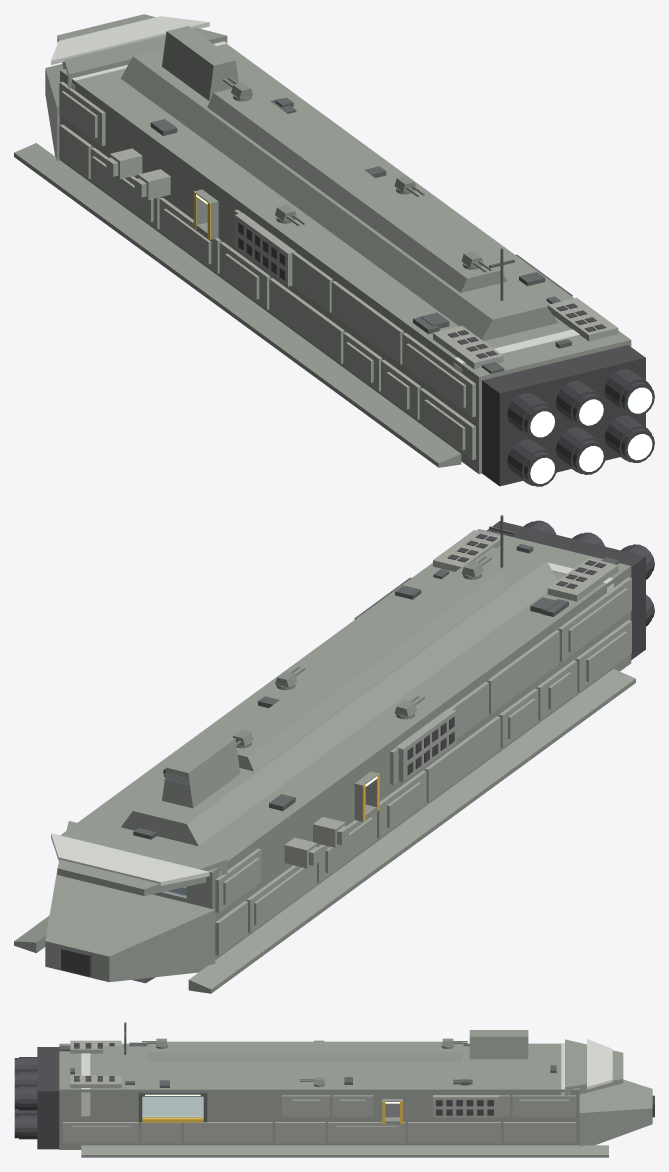
File: ship_SMALL_FRIGATE_v1.glb
3 renders of one model, top to bottom at view 1: azimuth 30°, elevation 25°; view 2: azimuth 150°, elevation 25°; view 3: azimuth 270°, elevation 25°, orthographic. The views are drawn at different scales.
Visible parts, largest first — view 1: SMALL_FRIGATE_Hull-col, SMALL_FRIGATE_Armor, SMALL_FRIGATE_Engines, SMALL_FRIGATE_Accent, SMALL_FRIGATE_EngineGlow, SMALL_FRIGATE_Details, SMALL_FRIGATE_EscapePod_2, SMALL_FRIGATE_EscapePod_1; view 2: SMALL_FRIGATE_Hull-col, SMALL_FRIGATE_Armor, SMALL_FRIGATE_Engines, SMALL_FRIGATE_Accent, SMALL_FRIGATE_Details, SMALL_FRIGATE_EscapePod_2, SMALL_FRIGATE_EscapePod_1; view 3: SMALL_FRIGATE_Hull-col, SMALL_FRIGATE_Armor, SMALL_FRIGATE_Engines, SMALL_FRIGATE_Accent, SMALL_FRIGATE_CargoBayShield, SMALL_FRIGATE_CargoBayDoor-col, SMALL_FRIGATE_Details, SMALL_FRIGATE_Trim, SMALL_FRIGATE_Hazard.
Part boxes in pixels (x1,y1,x2,y2): SMALL_FRIGATE_Hull-col: [14, 14, 631, 473]; SMALL_FRIGATE_Armor: [59, 81, 618, 459]; SMALL_FRIGATE_Engines: [238, 222, 654, 486]; SMALL_FRIGATE_Accent: [51, 16, 579, 372]; SMALL_FRIGATE_EngineGlow: [530, 387, 652, 483]; SMALL_FRIGATE_Details: [150, 97, 571, 373]; SMALL_FRIGATE_EscapePod_2: [106, 148, 142, 179]; SMALL_FRIGATE_EscapePod_1: [134, 169, 170, 199]; SMALL_FRIGATE_Hull-col: [14, 529, 635, 993]; SMALL_FRIGATE_Armor: [215, 530, 631, 955]; SMALL_FRIGATE_Engines: [61, 520, 654, 976]; SMALL_FRIGATE_Accent: [51, 562, 613, 885]; SMALL_FRIGATE_Details: [133, 515, 619, 839]; SMALL_FRIGATE_EscapePod_2: [284, 837, 320, 868]; SMALL_FRIGATE_EscapePod_1: [313, 817, 348, 847]; SMALL_FRIGATE_Hull-col: [59, 1030, 652, 1157]; SMALL_FRIGATE_Armor: [63, 1040, 575, 1143]; SMALL_FRIGATE_Engines: [14, 1043, 654, 1149]; SMALL_FRIGATE_Accent: [81, 1039, 612, 1116]; SMALL_FRIGATE_CargoBayShield: [142, 1096, 203, 1116]; SMALL_FRIGATE_CargoBayDoor-col: [142, 1096, 203, 1116]; SMALL_FRIGATE_Details: [59, 1022, 556, 1087]; SMALL_FRIGATE_Trim: [138, 1091, 207, 1122]; SMALL_FRIGATE_Hazard: [142, 1101, 402, 1124].
Bounding box in the file's own units: 19.8 × 17.4 × 87.5.
